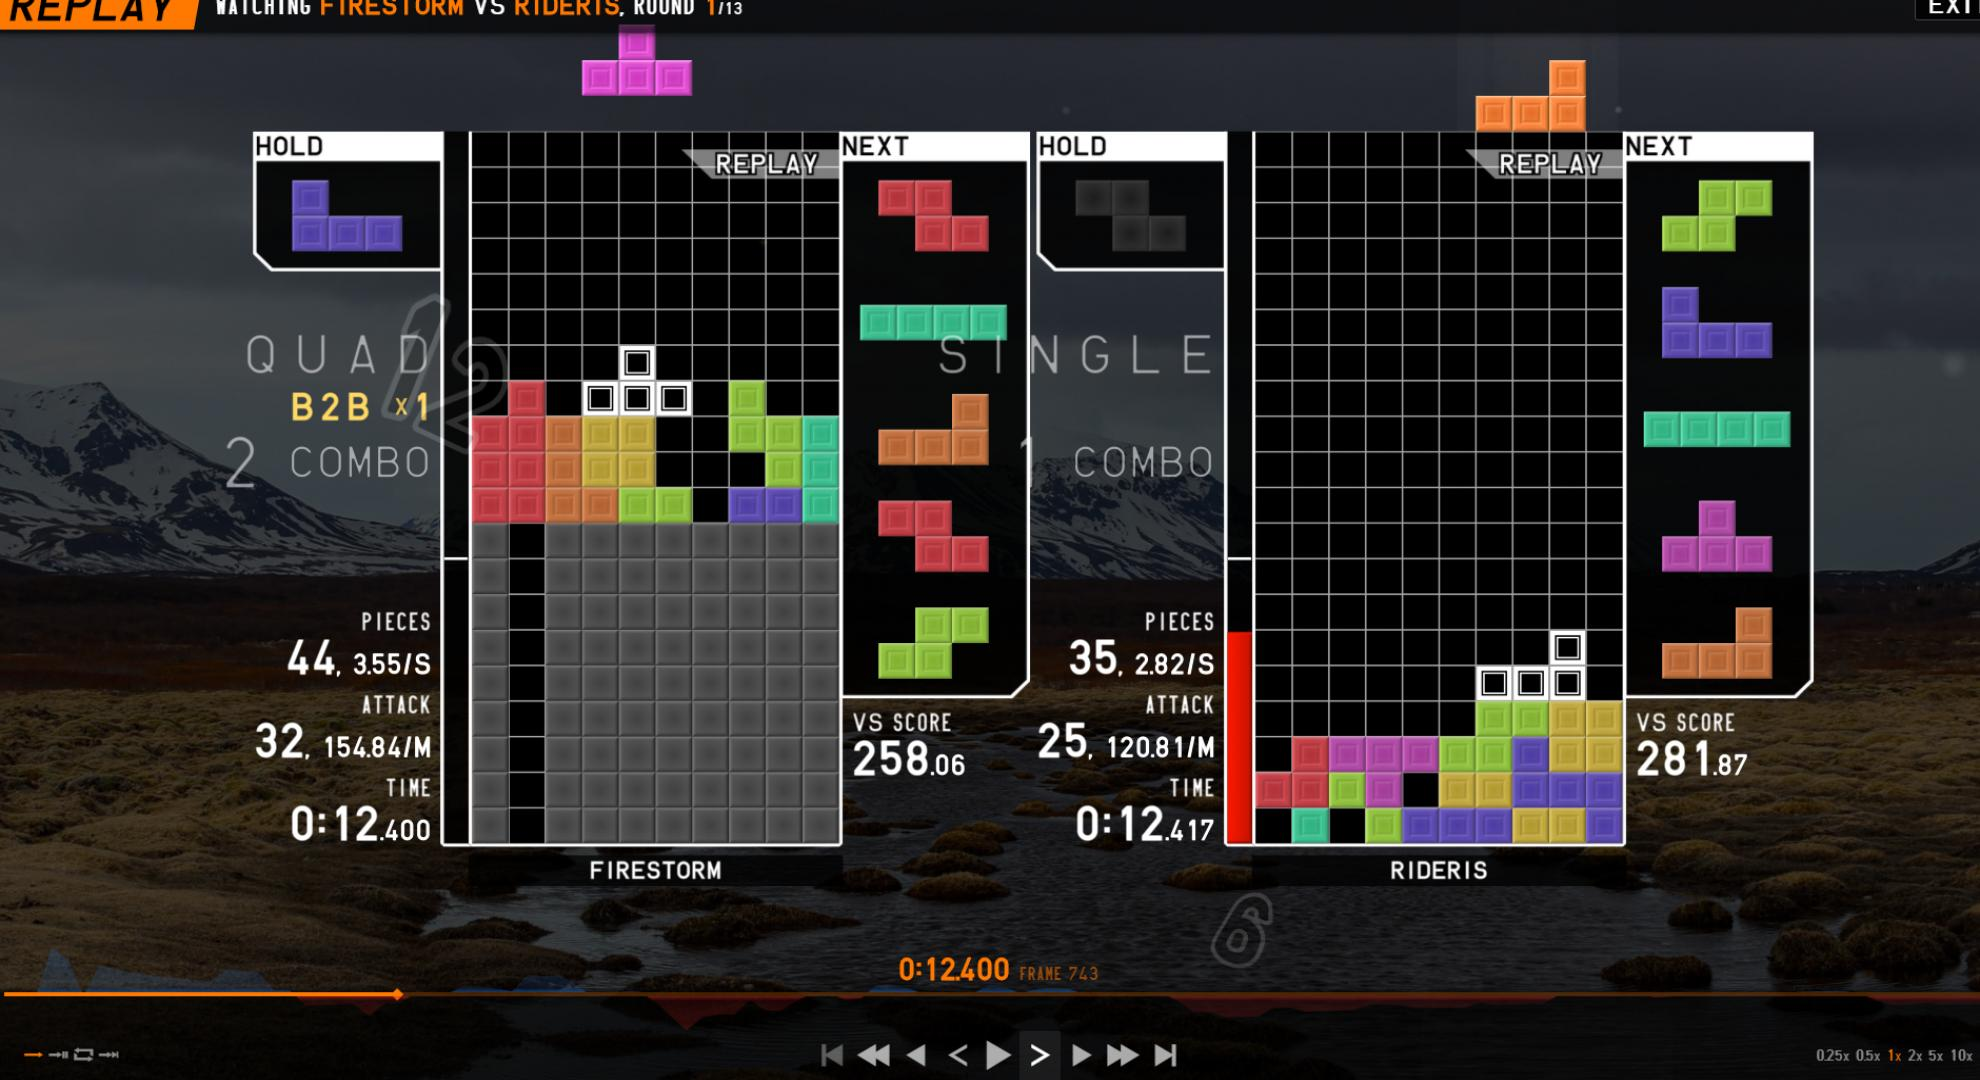tspin: (653, 412, 771, 524)
